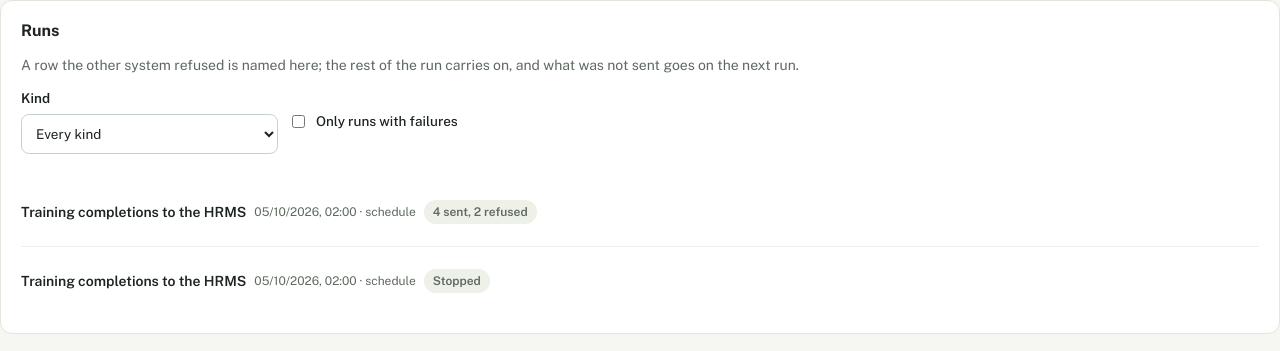
Scenario: integration runs (item 1.23) › lists the runs with what was refused, narrowed by kind and to those with failures
Check: the 1st list item shows "4 sent, 2 refused", box x1=433 y1=205 x2=528 y2=219
Select "Coursework totals to the SRMS" in the dropdown labelled "Kind" at coordinates (150, 134), box x1=21 y1=114 x2=278 y2=154
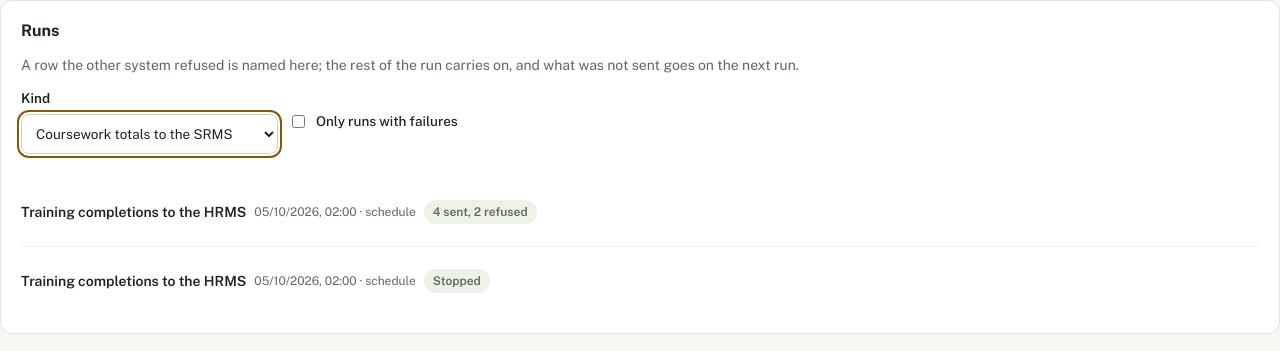
Click the checkbox labelled "Only runs with failures".
click(298, 121)  # box x1=292 y1=115 x2=305 y2=128
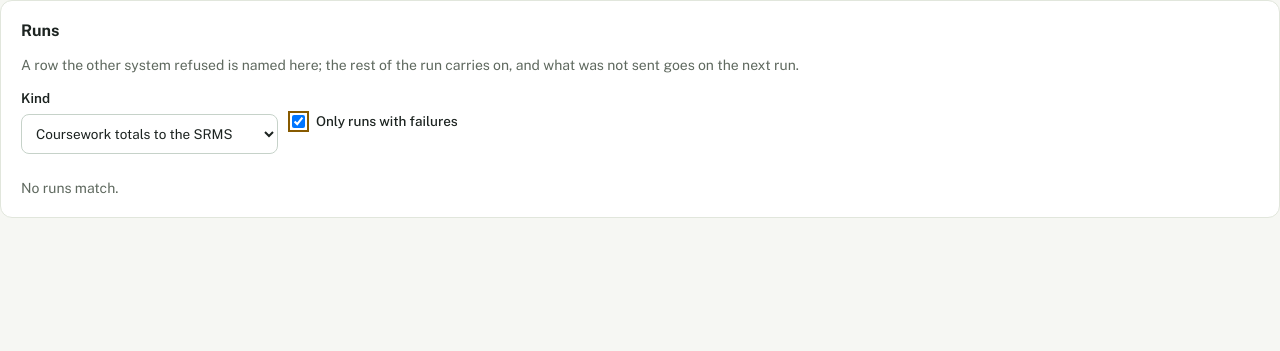
Check: the text "No runs match." is shown, box x1=21 y1=180 x2=118 y2=196
